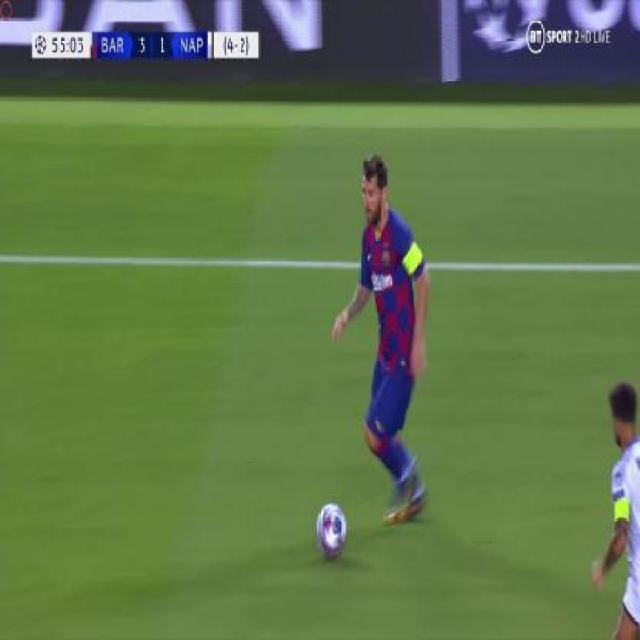ball: (311, 494, 353, 563)
player: (324, 146, 444, 540), (584, 372, 640, 634)
